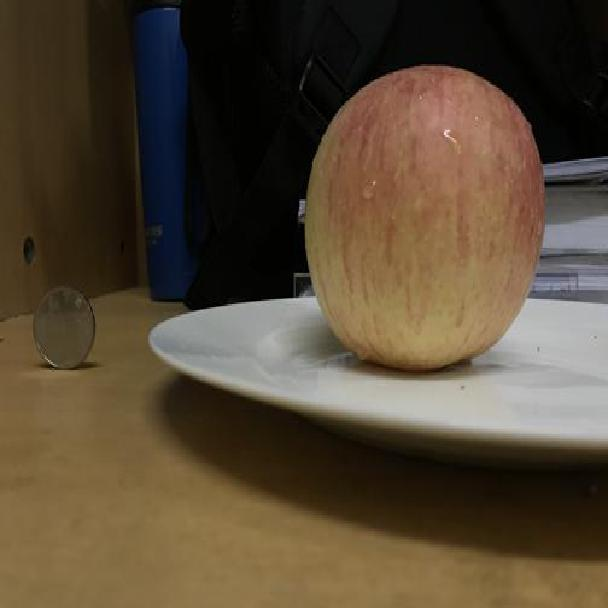apple: (306, 64, 550, 373)
